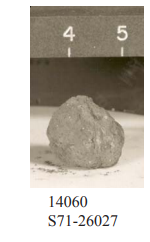Breccia: (48, 93, 123, 173)
